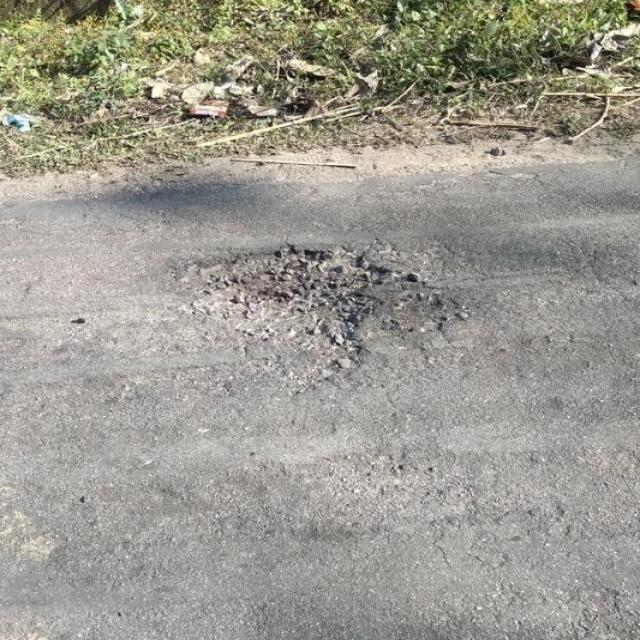road-pothole: (172, 248, 478, 407)
